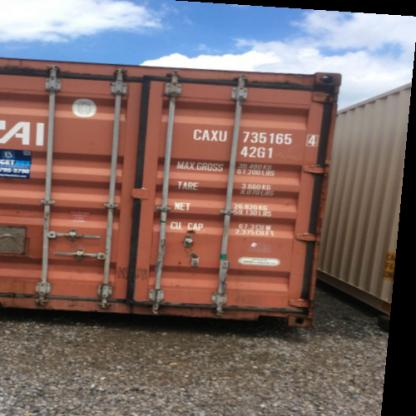Damage: (153, 294, 311, 324), (3, 285, 124, 313), (115, 266, 154, 284)
